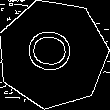O_E: (24, 29, 82, 79)
